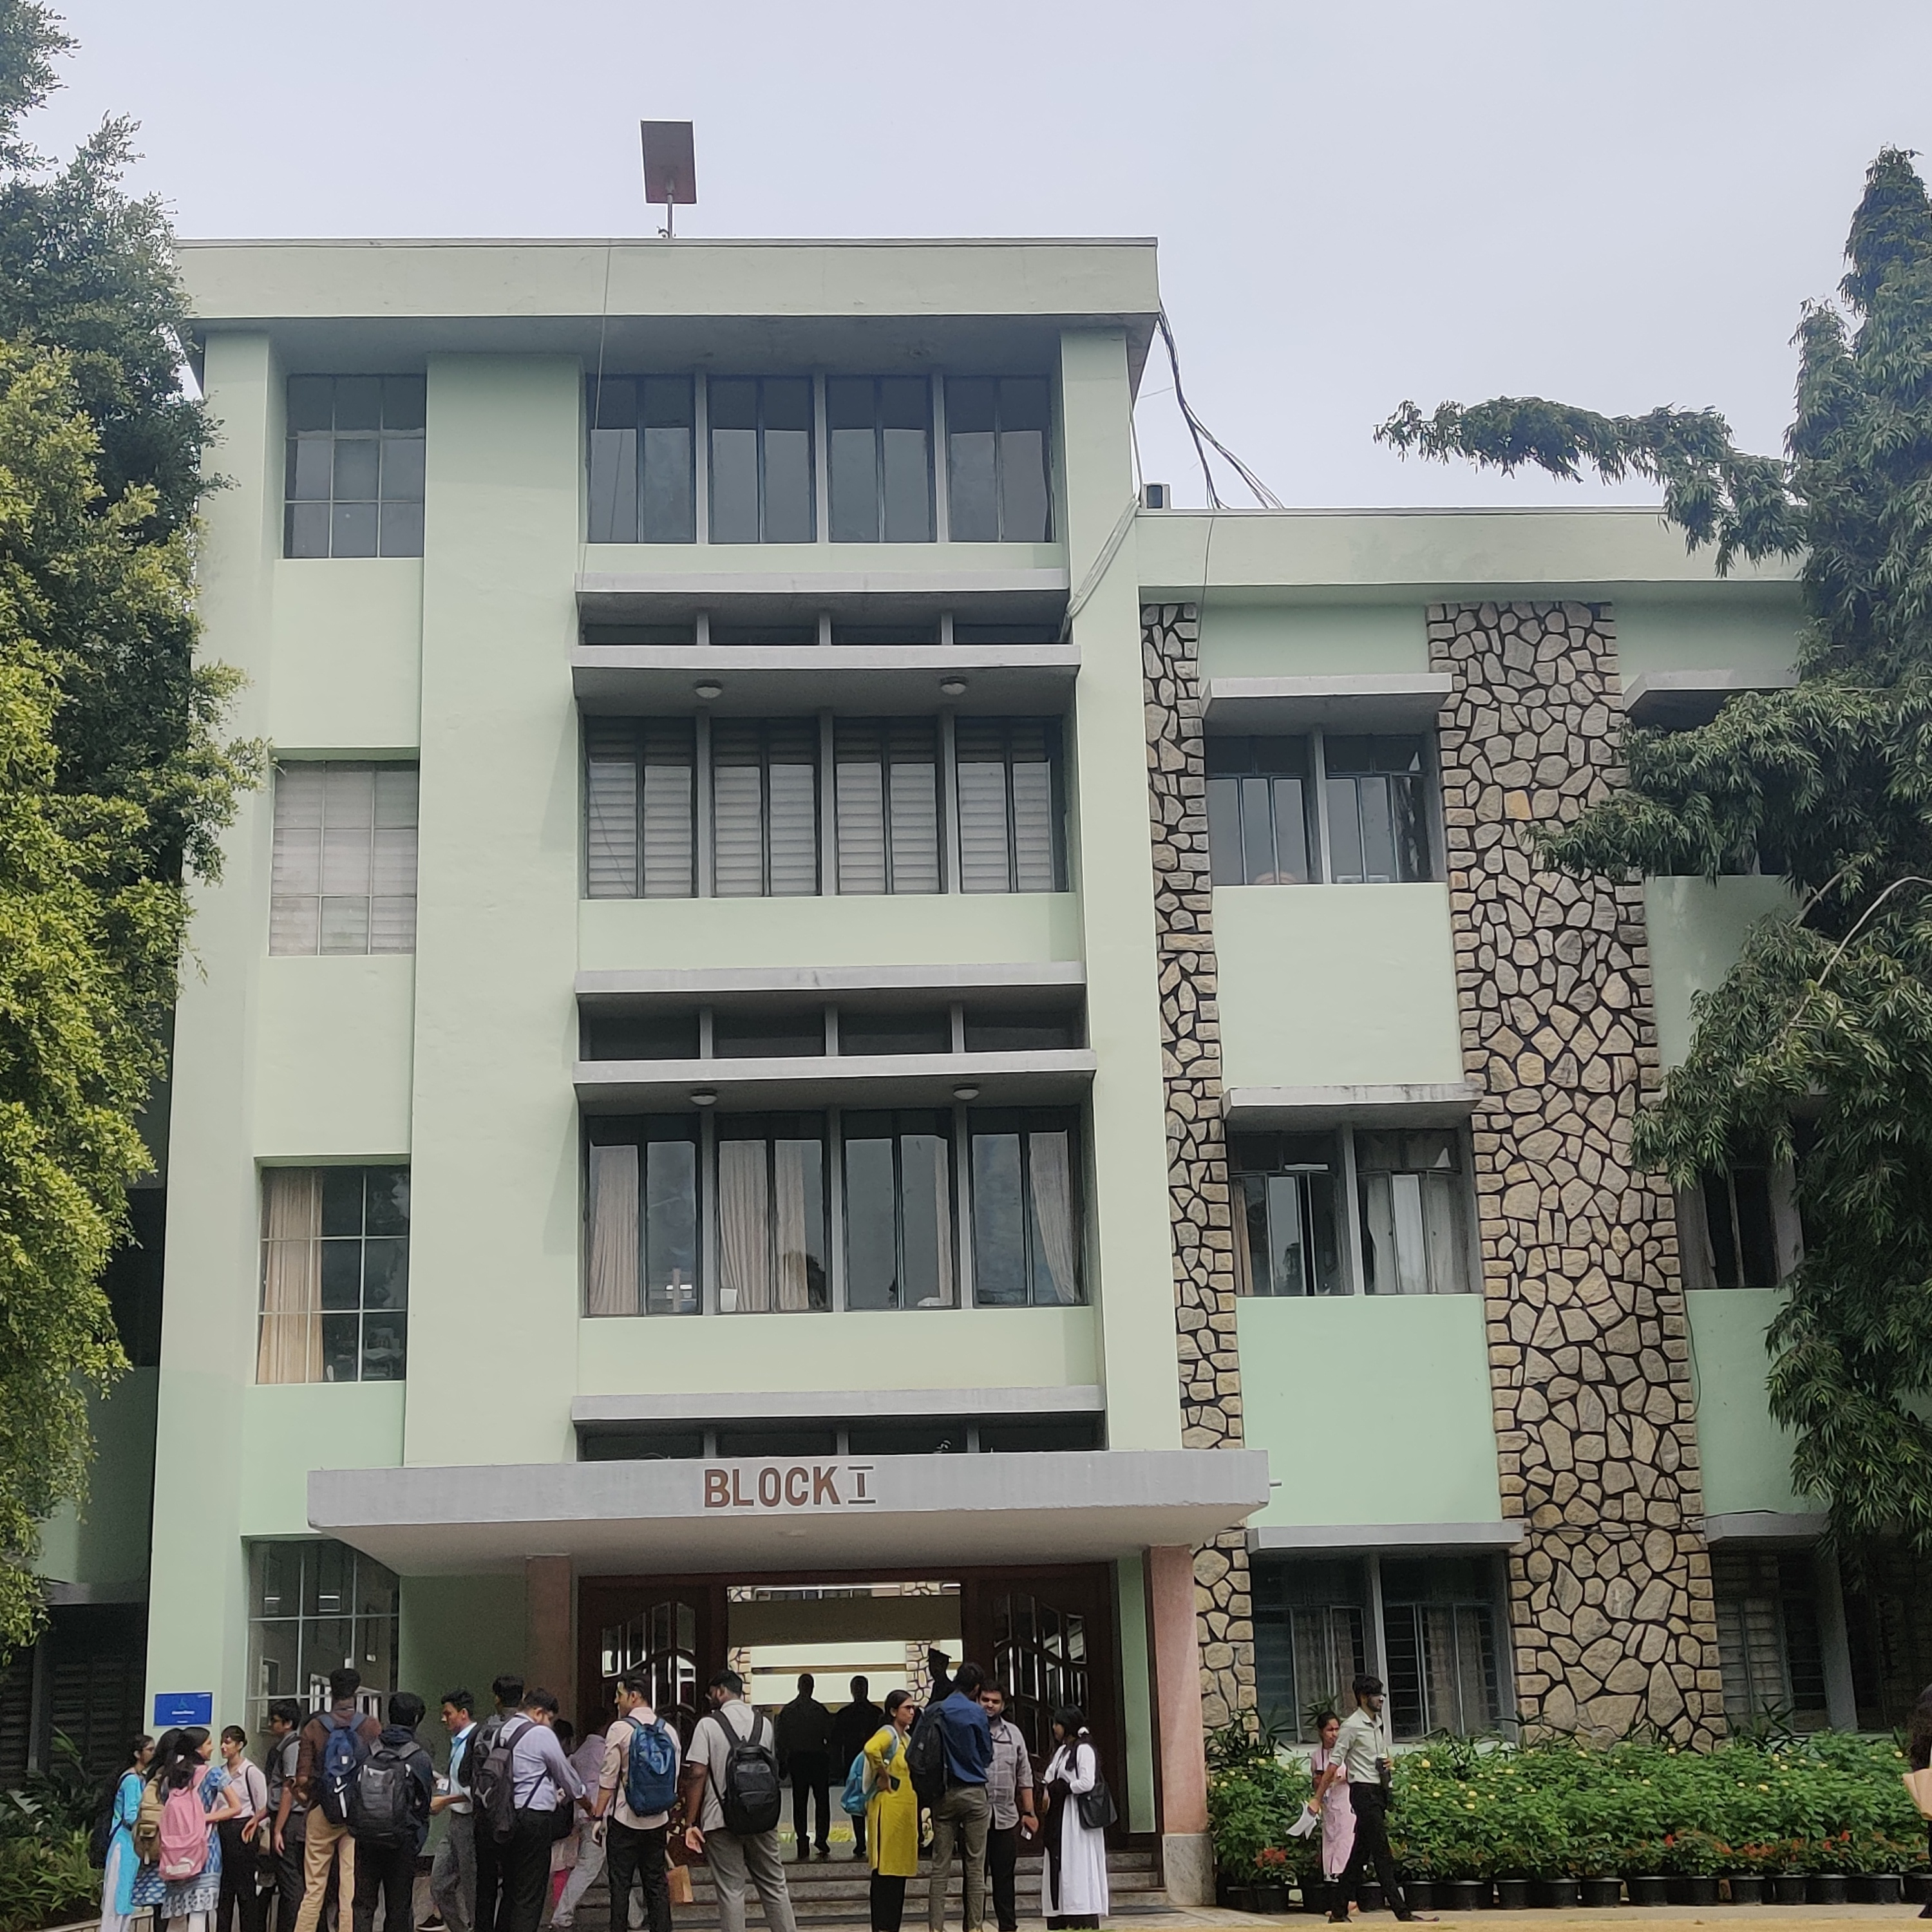Block 1: (166, 239, 1796, 1704)
